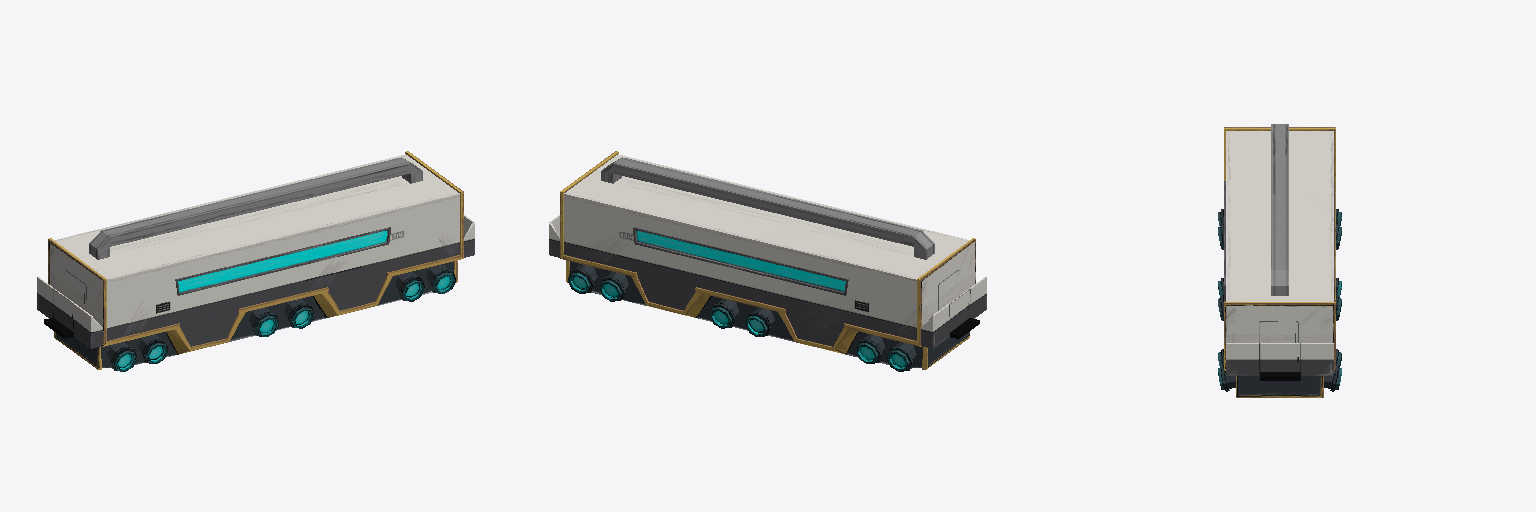
3 views of the same model, side by side, from view 1: azimuth 30°, elevation 25°; view 2: azimuth 150°, elevation 25°; view 3: azimuth 270°, elevation 25° (orthographic).
Visible parts, largest first — view 1: Cube_Cube.001; view 2: Cube_Cube.001; view 3: Cube_Cube.001.
Boxes of the visible parts, <box> form: Cube_Cube.001: <box>37,151,474,371</box>; Cube_Cube.001: <box>549,151,986,371</box>; Cube_Cube.001: <box>1218,124,1341,397</box>.
Bounding box in the file's own units: 8.63 × 2.41 × 2.31.
1 materials, 1 textured.